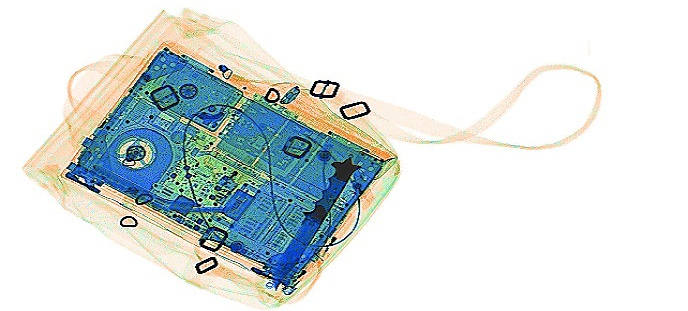knife: (269, 151, 362, 290)
lighter: (303, 206, 362, 263), (279, 243, 328, 294), (336, 155, 376, 211)
pressure: (255, 77, 399, 181)
